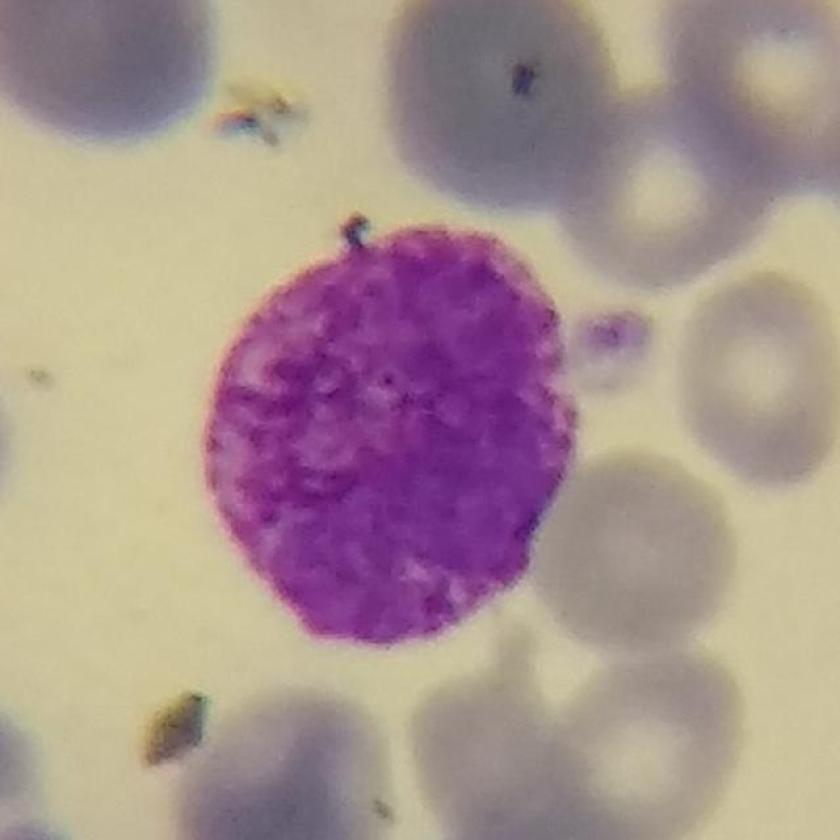basophil: (206, 222, 584, 651)
